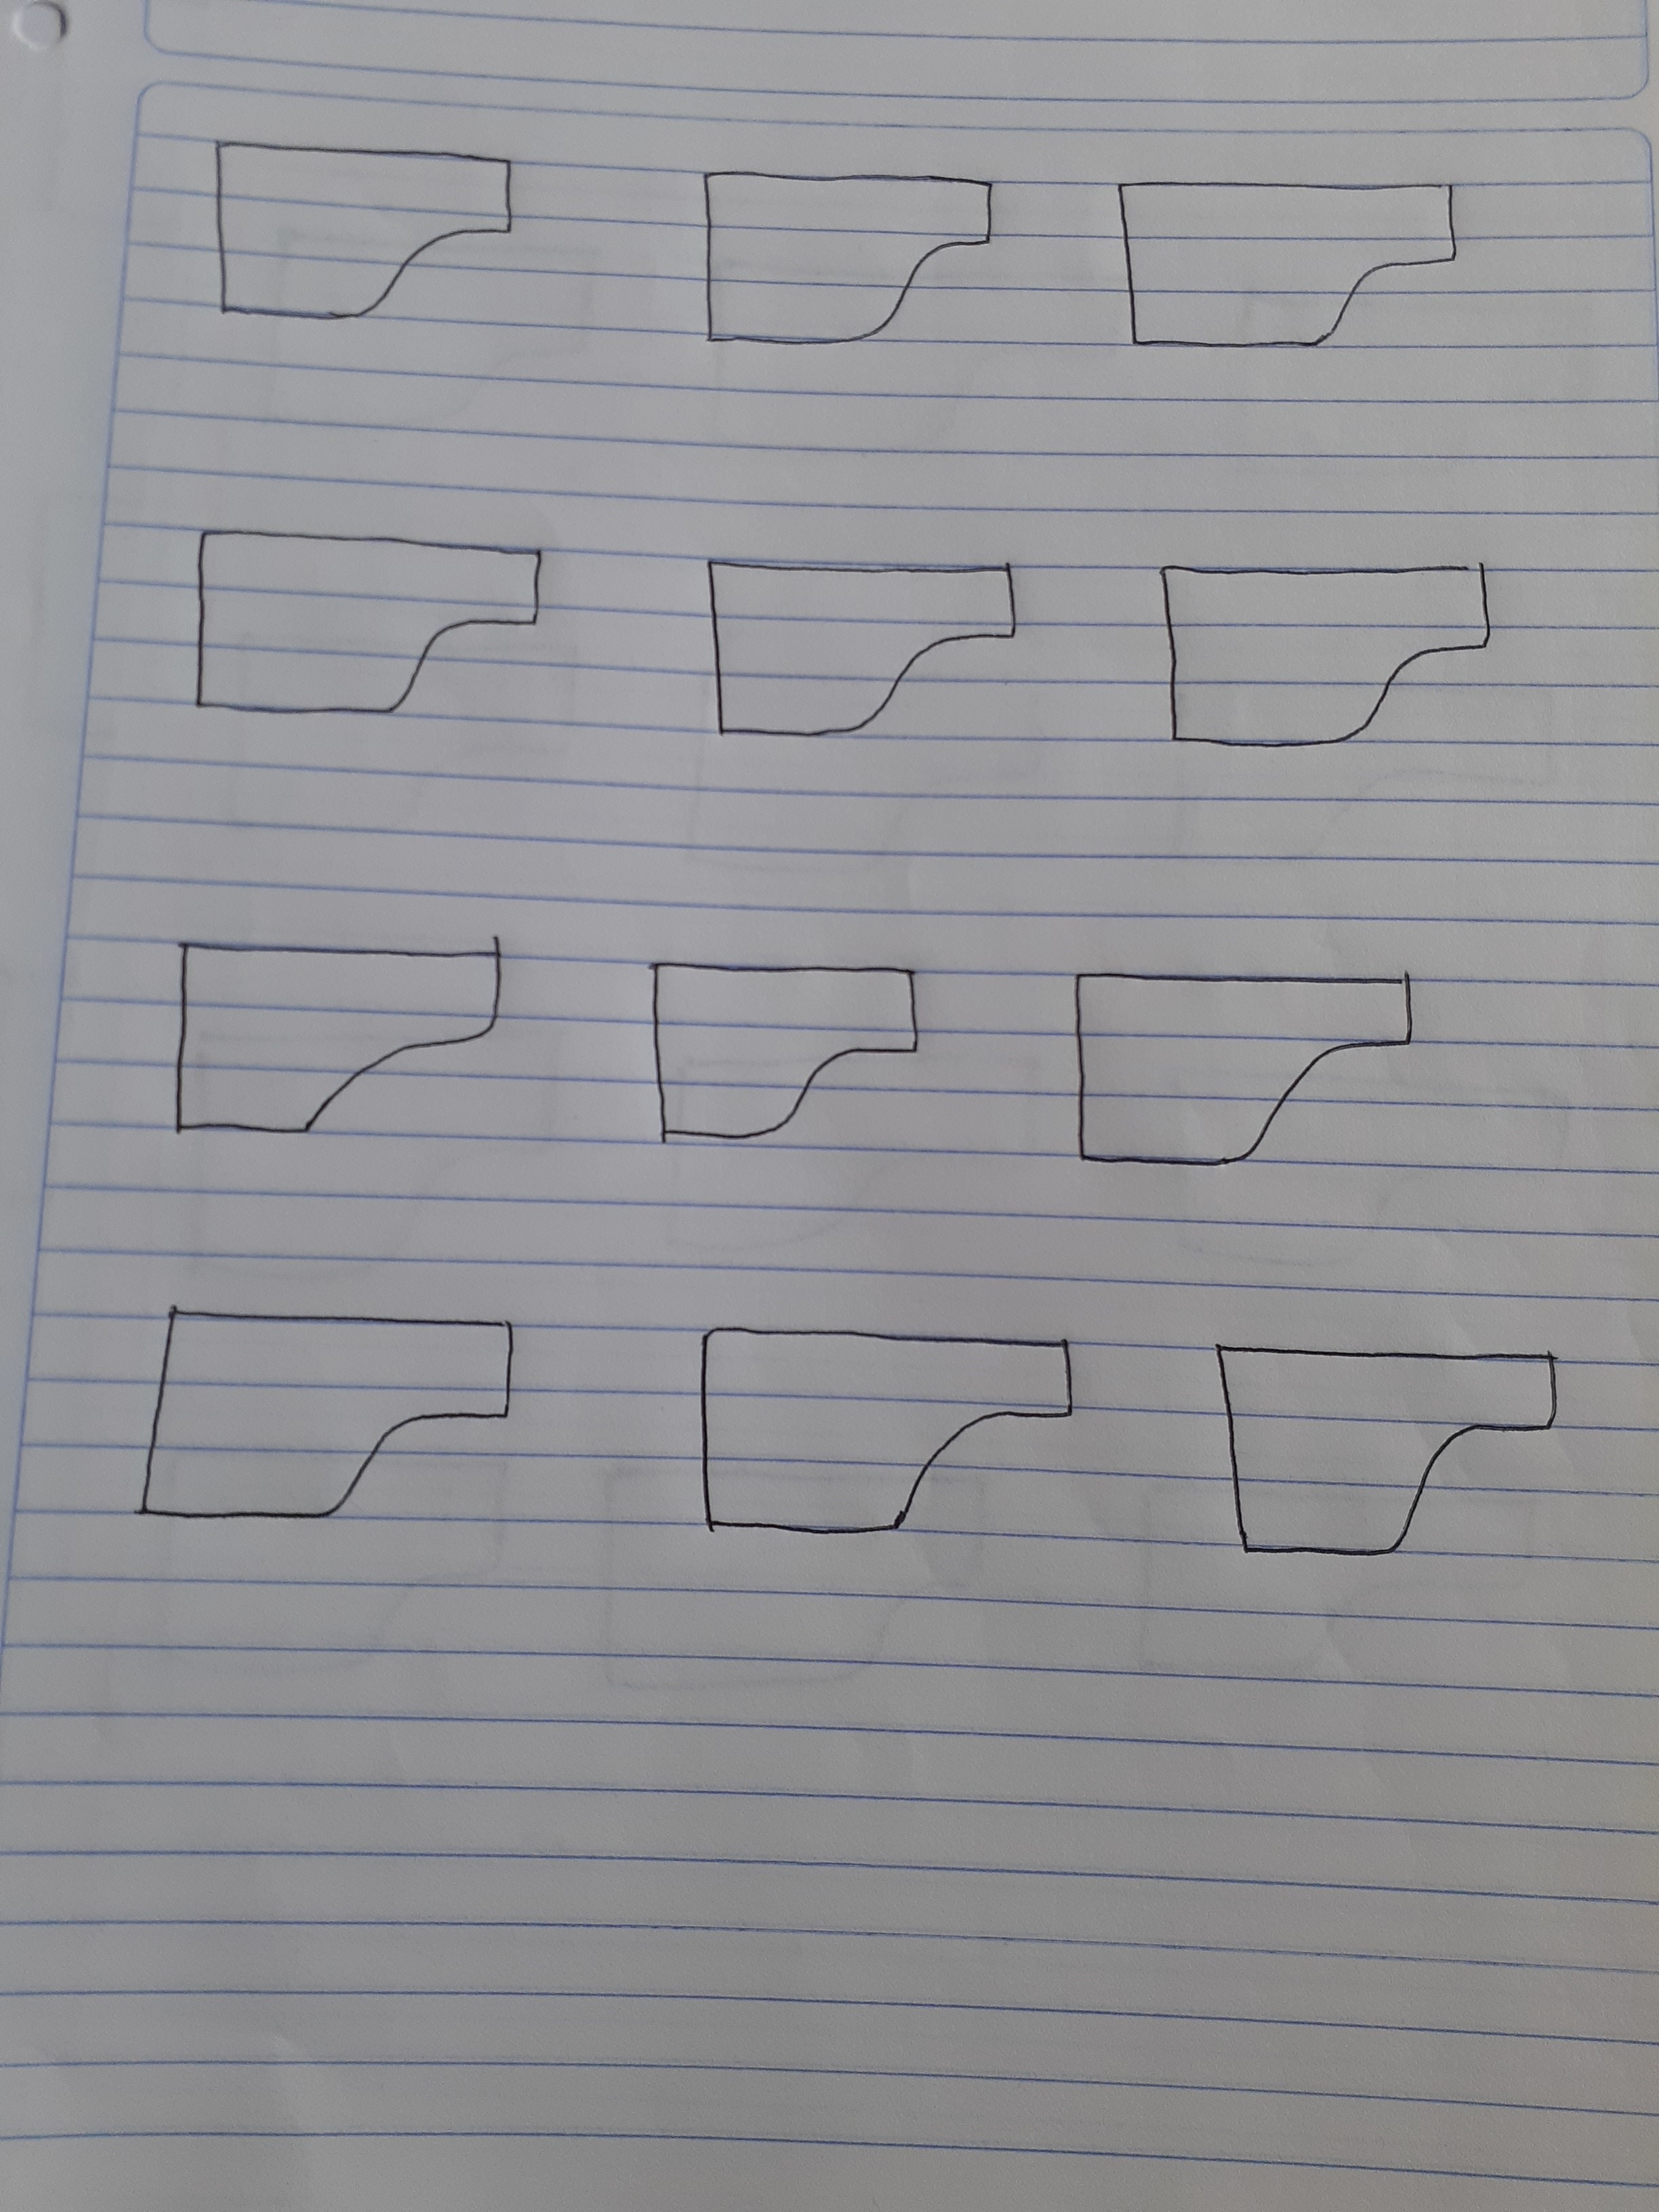print: (1159, 1285, 1589, 1590), (667, 1271, 1089, 1580), (129, 1259, 545, 1536), (667, 514, 1047, 780), (1051, 923, 1427, 1191), (164, 507, 563, 754), (160, 913, 530, 1163), (1154, 523, 1506, 780), (190, 99, 540, 343), (1091, 160, 1492, 368), (624, 930, 950, 1170), (688, 146, 1014, 368)
